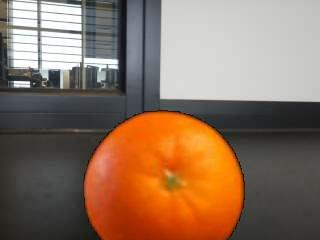Orange: (80, 109, 248, 240)
